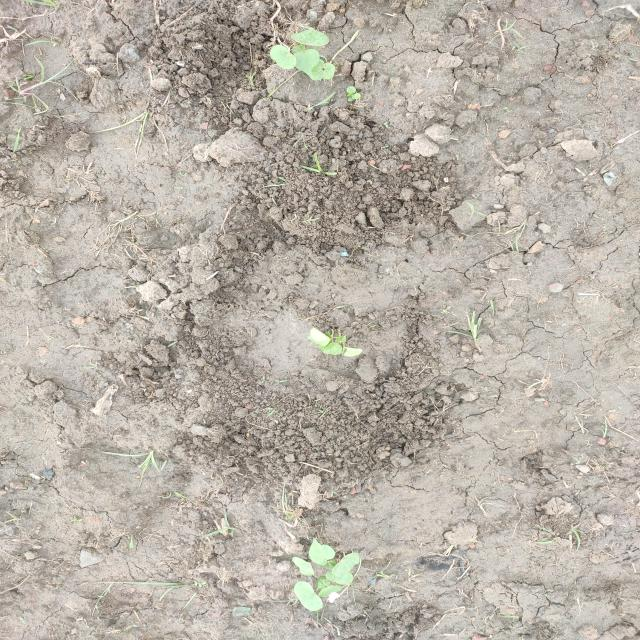seedling: (294, 582, 323, 611), (293, 49, 319, 76), (308, 538, 335, 564), (270, 44, 298, 69), (332, 552, 360, 575), (292, 30, 330, 46), (291, 557, 314, 576), (326, 570, 353, 585), (309, 328, 332, 345), (318, 342, 343, 354), (311, 59, 324, 80), (319, 585, 341, 597), (323, 62, 335, 81), (343, 347, 362, 357), (316, 576, 330, 588), (319, 561, 339, 568), (336, 335, 347, 343)
